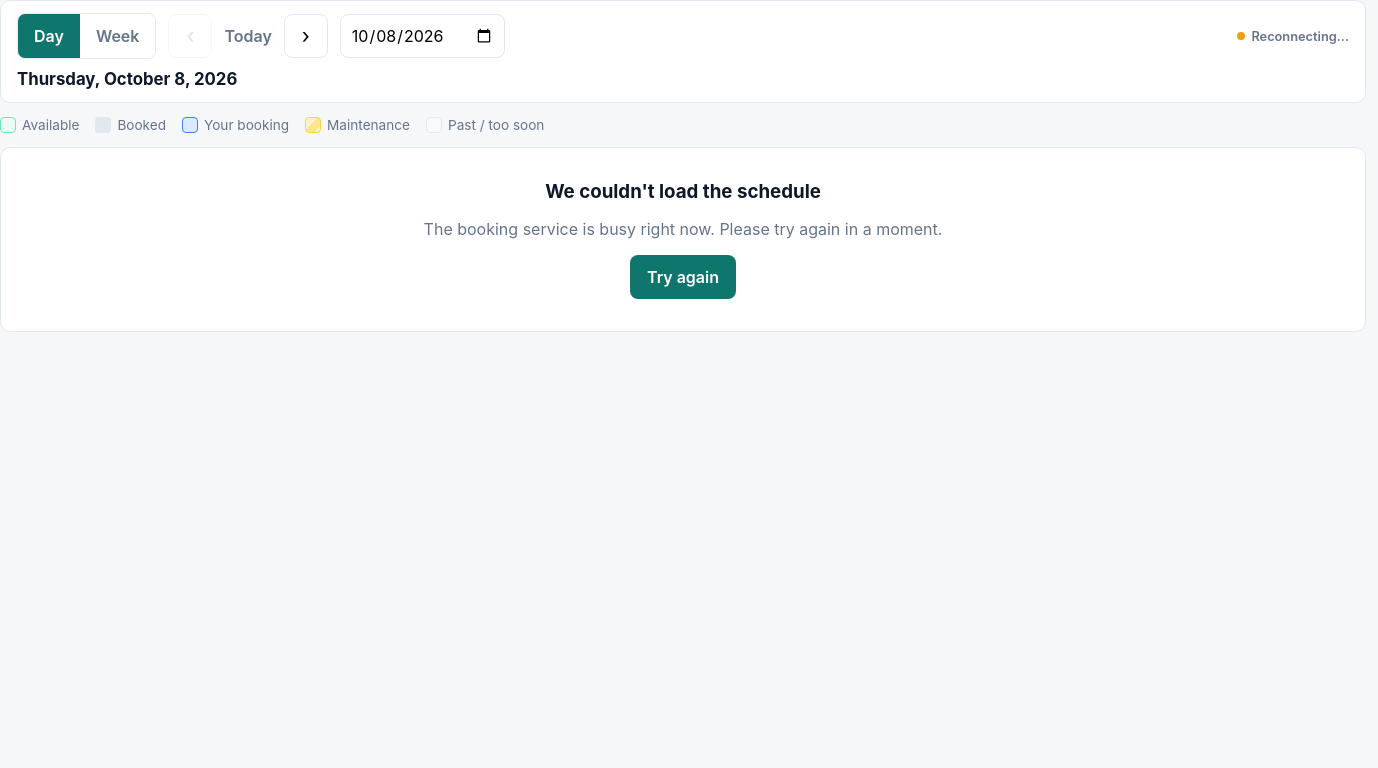
Test: player view › shows a friendly error with retry when loading fails
The width and height of the screenshot is (1378, 768).
expect the text "busy right now" is shown: met, box [424, 219, 942, 239]
Click the button "Try again" at (683, 277), box [630, 255, 736, 299]
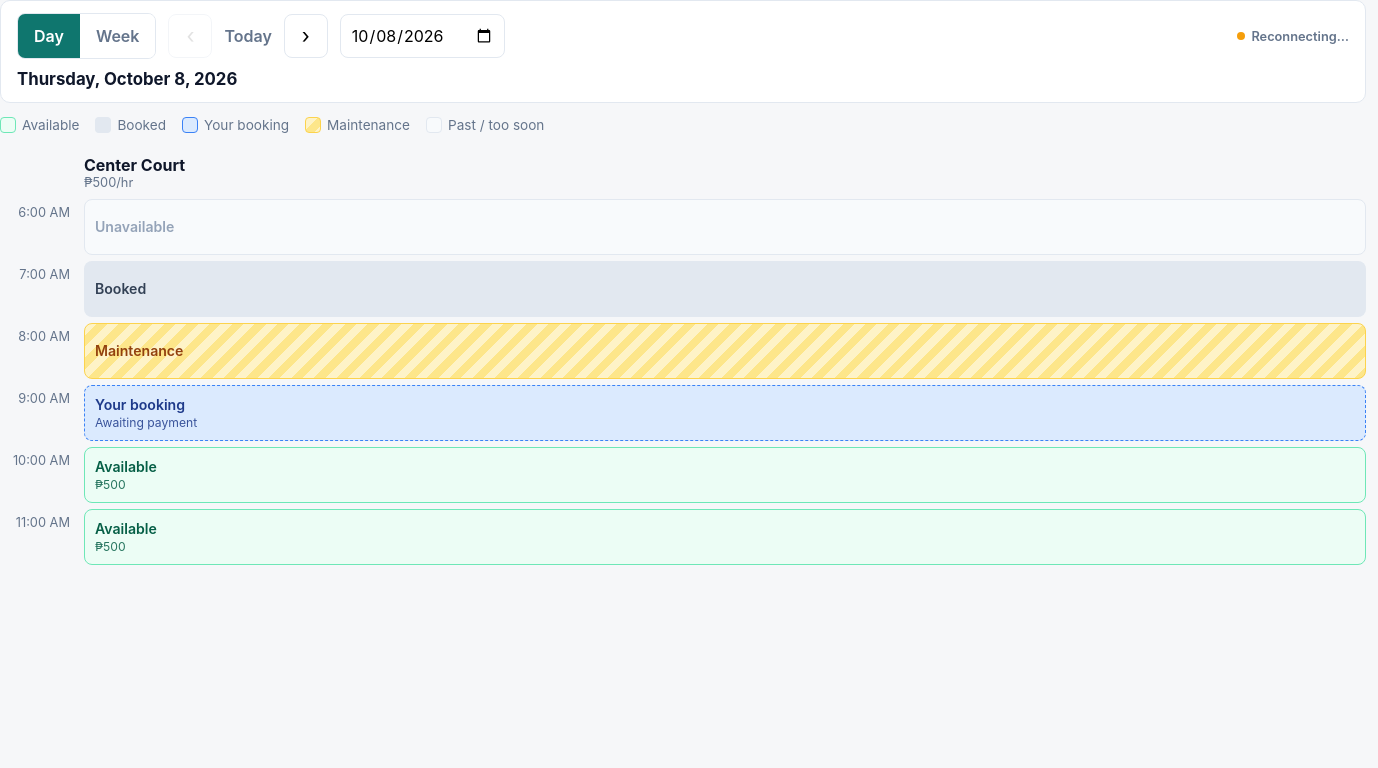
expect the 1st button "Available ₱500" is shown: met, box [84, 447, 1366, 503]
